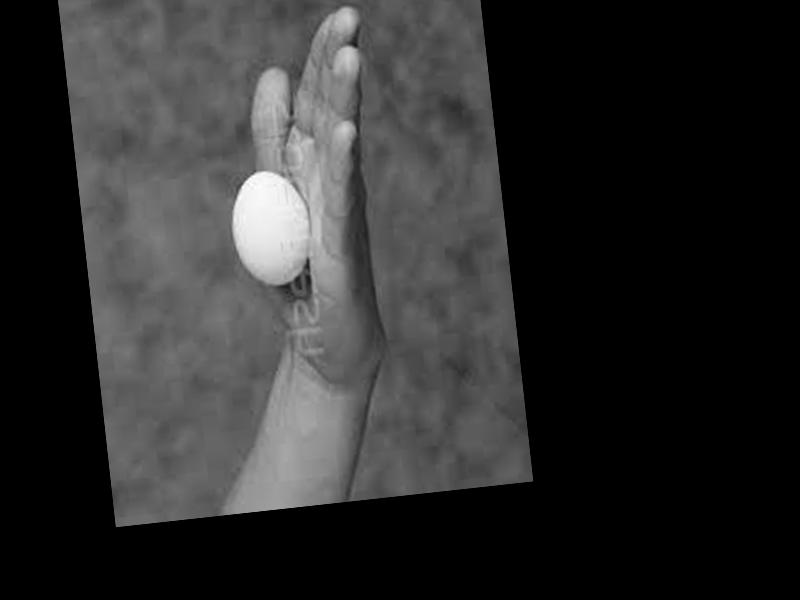Eggs: (224, 167, 315, 290)
